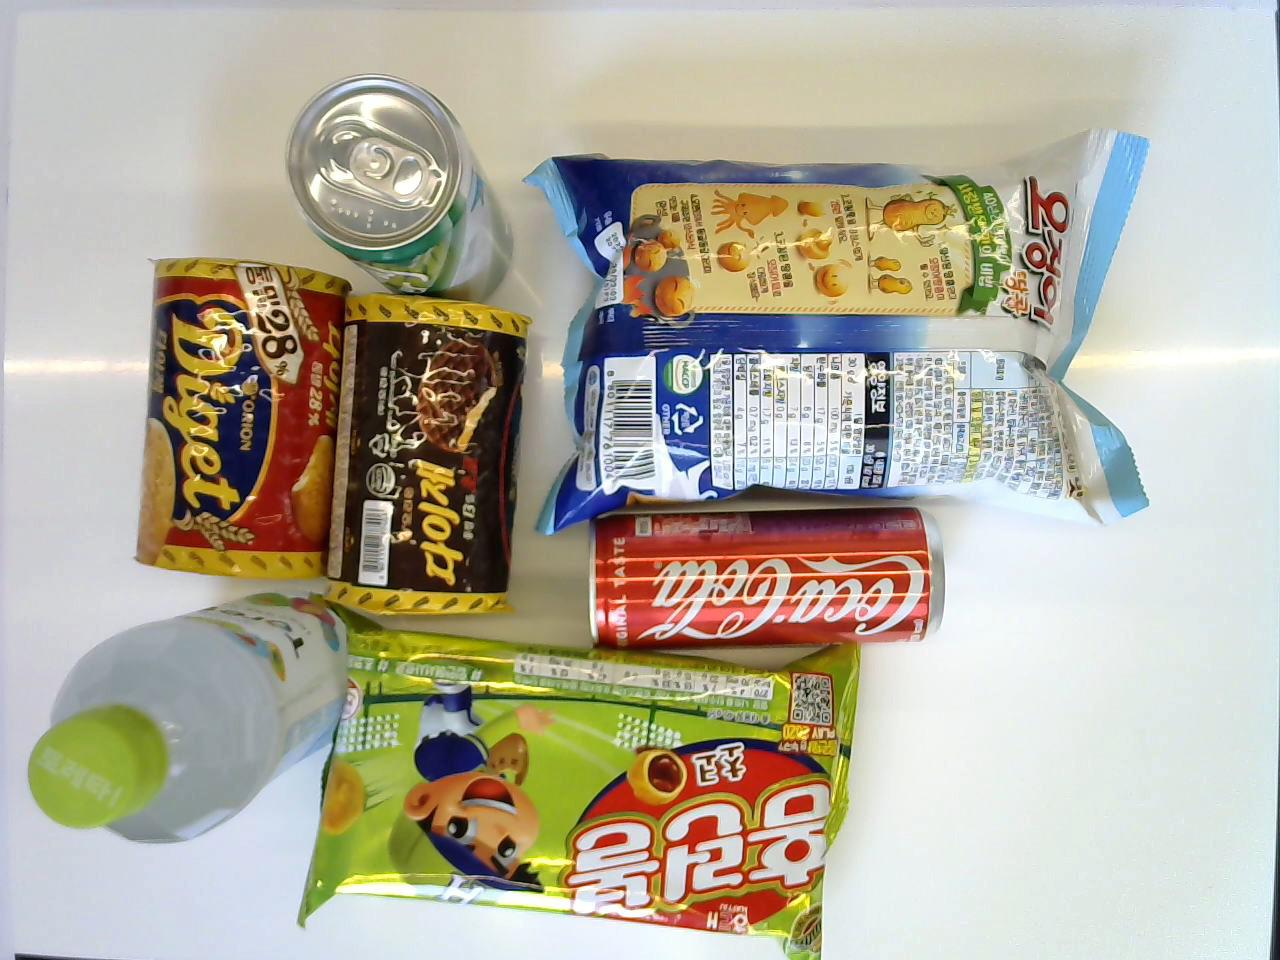cidar: (282, 72, 515, 304)
coke: (580, 505, 950, 659)
diget_choco: (321, 299, 528, 609)
diget_ori: (127, 253, 360, 578)
homerunball: (305, 624, 858, 955)
squid_peanut: (524, 118, 1162, 541)
toreta: (25, 583, 366, 846)
